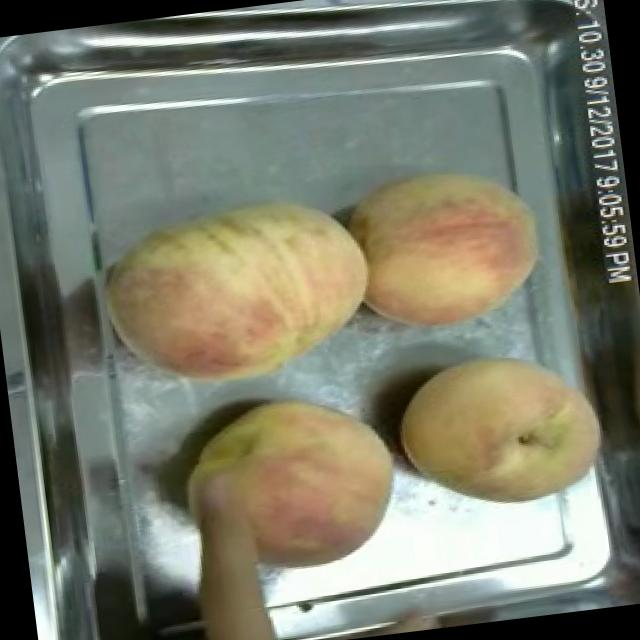Fruit: (93, 185, 374, 408), (165, 376, 411, 594), (379, 332, 616, 528), (332, 148, 560, 346)
